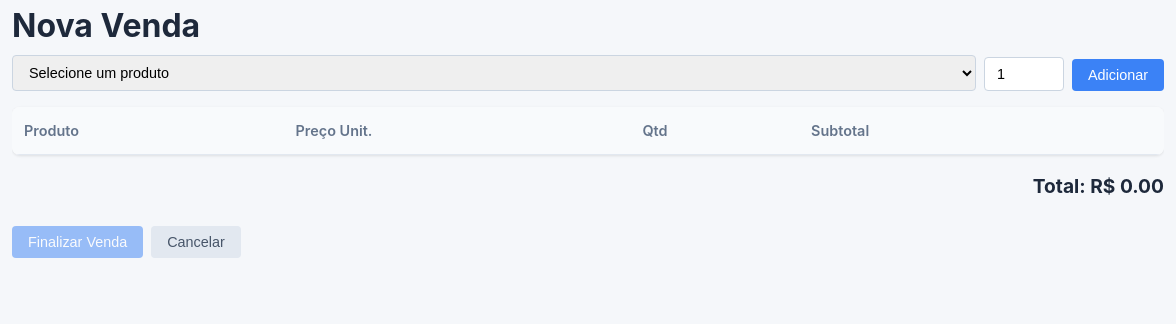
NewSale page › adiciona item e calcula o total
The image size is (1176, 324).
Select "Arroz (R$ 10.50) - Est: 20" in the dropdown: (494,73) 12,55 -> 976,91
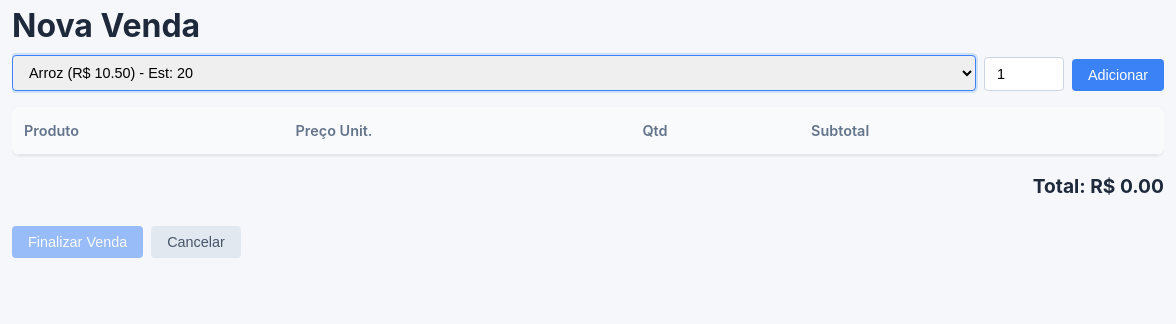
Replace the text in the number field with "2": (1024,74) 984,57 -> 1064,91
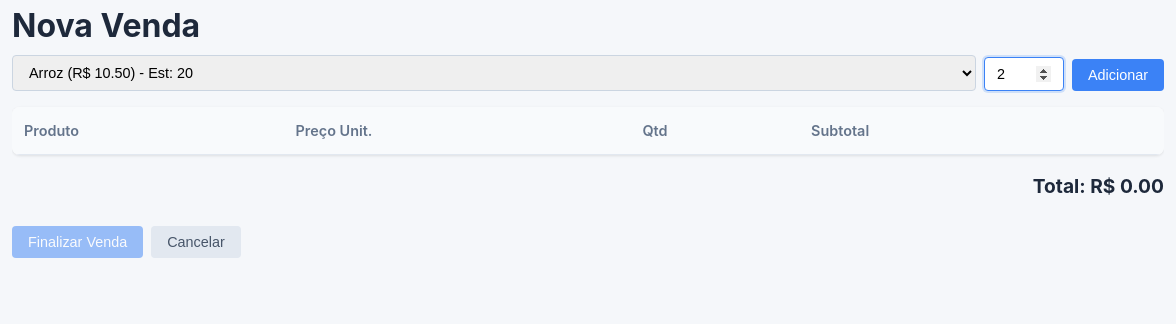
Click the button "Adicionar": (1118,75) 1072,59 -> 1164,91
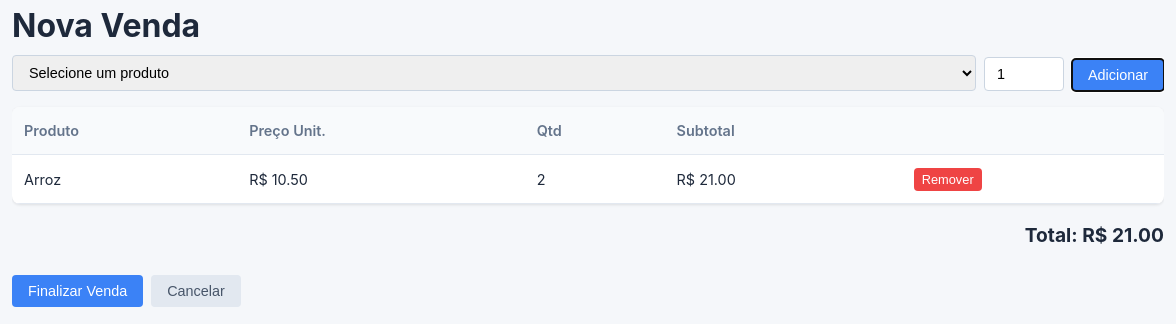
Check: the text "Arroz" is shown, box 12,155 -> 237,204
Check: the text "R$ 21.00" is shown, box 665,155 -> 902,204
Check: the text "Total: R$ 21.00" is shown, box 1025,223 -> 1164,247
